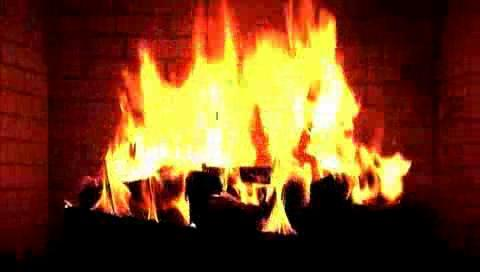fire: (119, 13, 374, 221)
